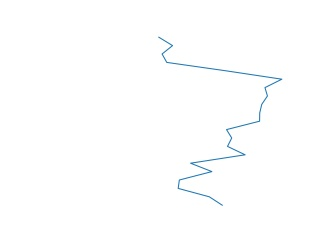floodPlain: (157, 34, 285, 209)
